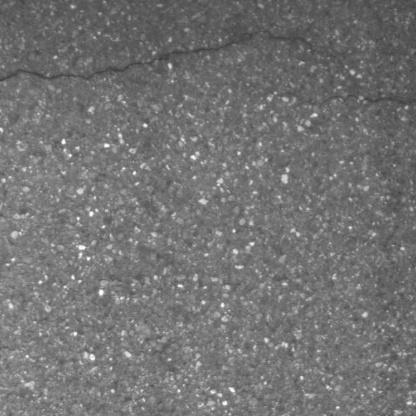Cracks: (0, 27, 318, 87), (293, 91, 416, 113)
